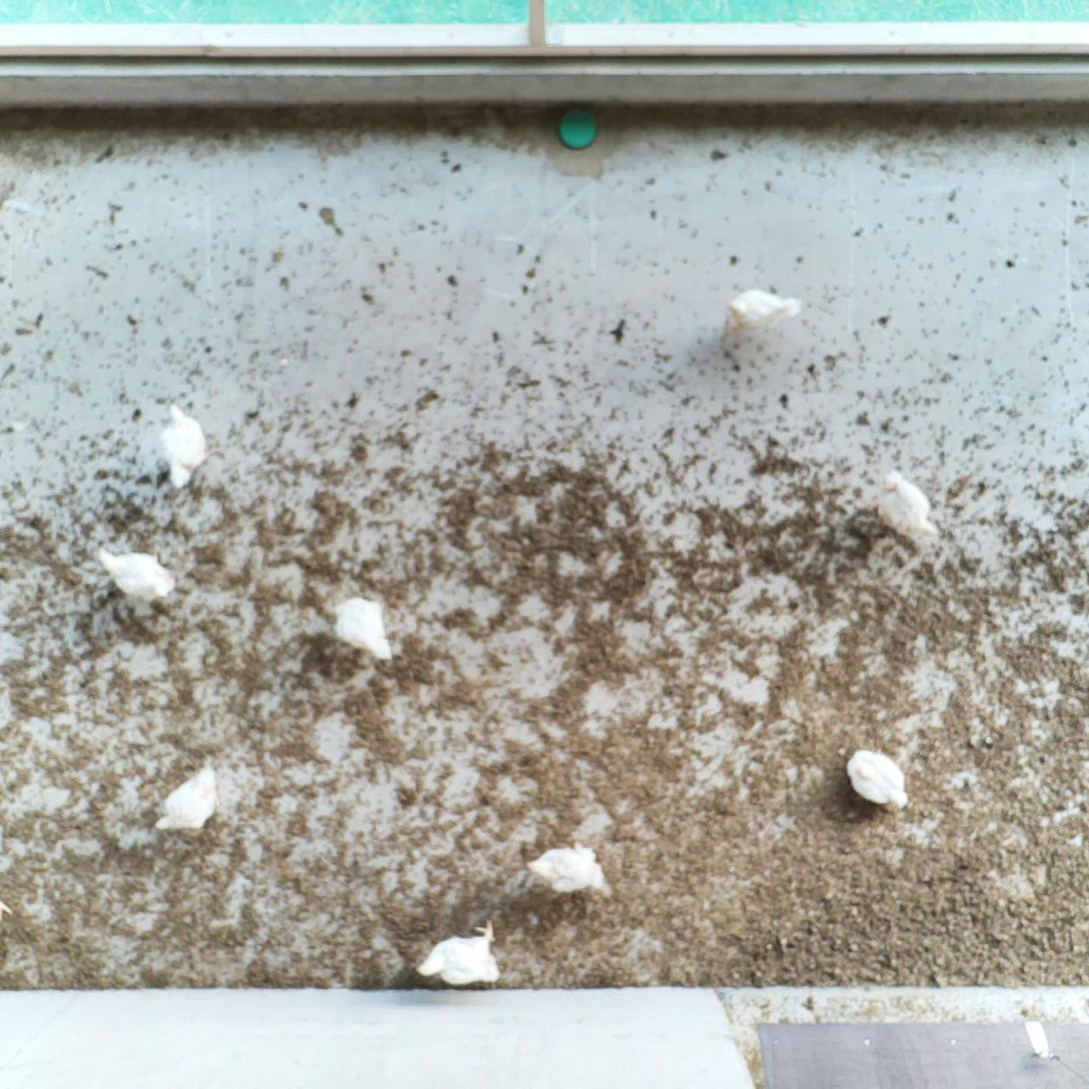chicken: (416, 911, 503, 989), (156, 398, 223, 491), (149, 760, 224, 839), (526, 838, 613, 897), (723, 283, 809, 341), (96, 543, 178, 603), (875, 468, 943, 539), (844, 744, 909, 813), (333, 591, 394, 664)
